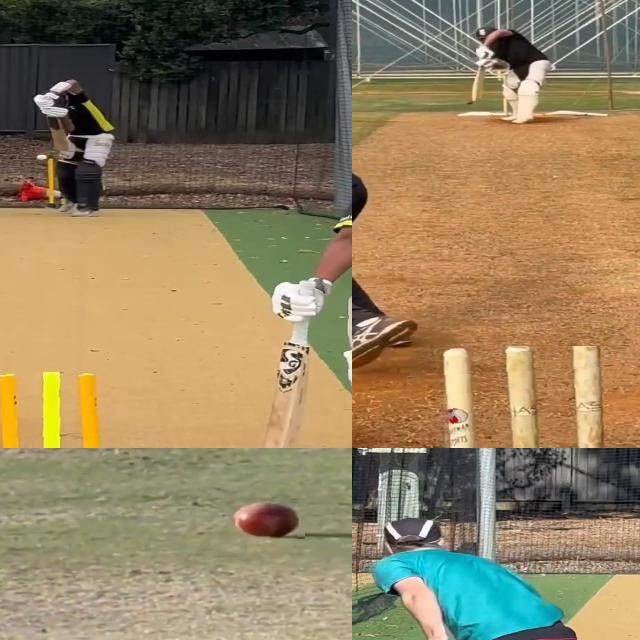Cricket ball: (230, 498, 306, 539), (34, 154, 49, 163), (466, 100, 473, 105)
Stumps: (440, 346, 604, 448), (0, 372, 111, 448)
